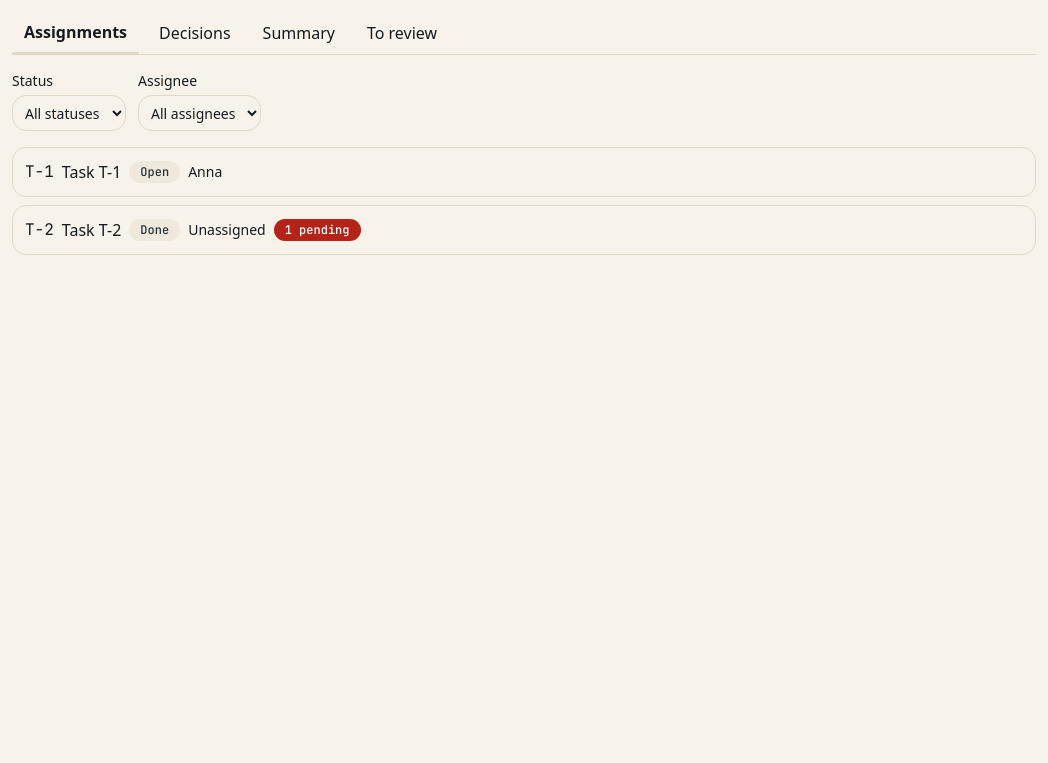
task history › shows creation meeting, mentions with quote and timecode link, and change log
Click the button with test id "task-row-T-1" at (92, 172), box [12, 147, 1036, 197]
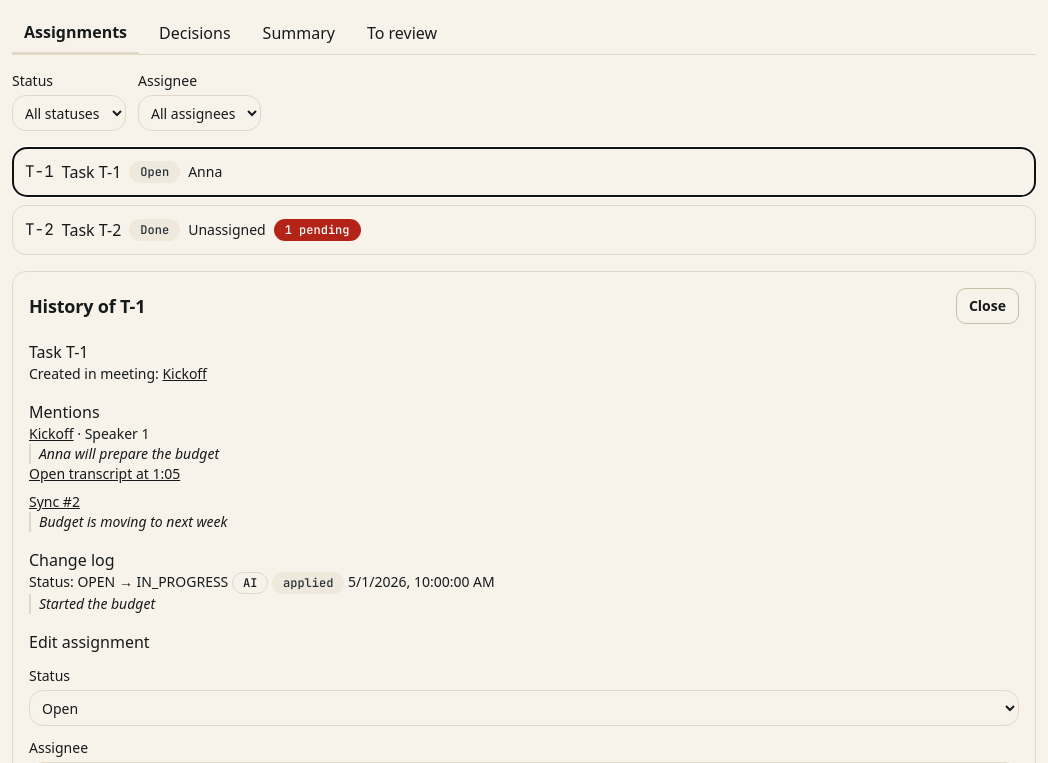
expect the text "Anna will prepare the budget" is shown: met, box [29, 444, 1019, 464]
expect the number of links with test id "mention-timecode" is 1: met, box [29, 464, 180, 483]
expect the link with test id "mention-timecode" shows "1:05": met, box [29, 464, 180, 483]
